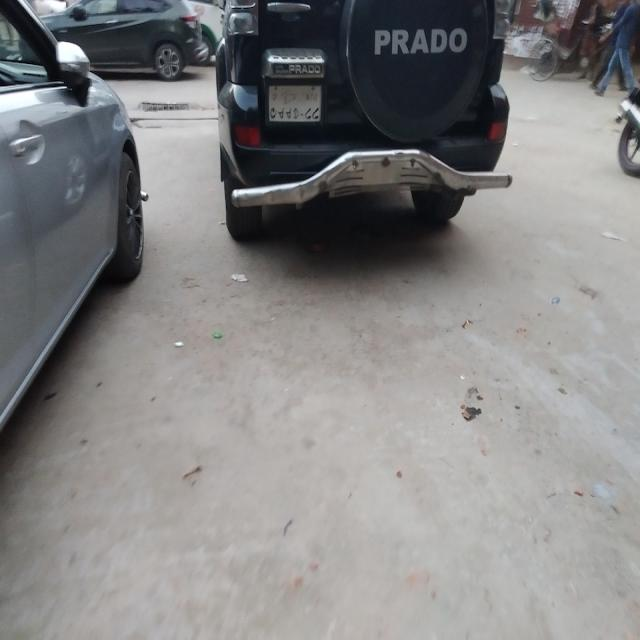numberplate: (266, 80, 326, 126)
